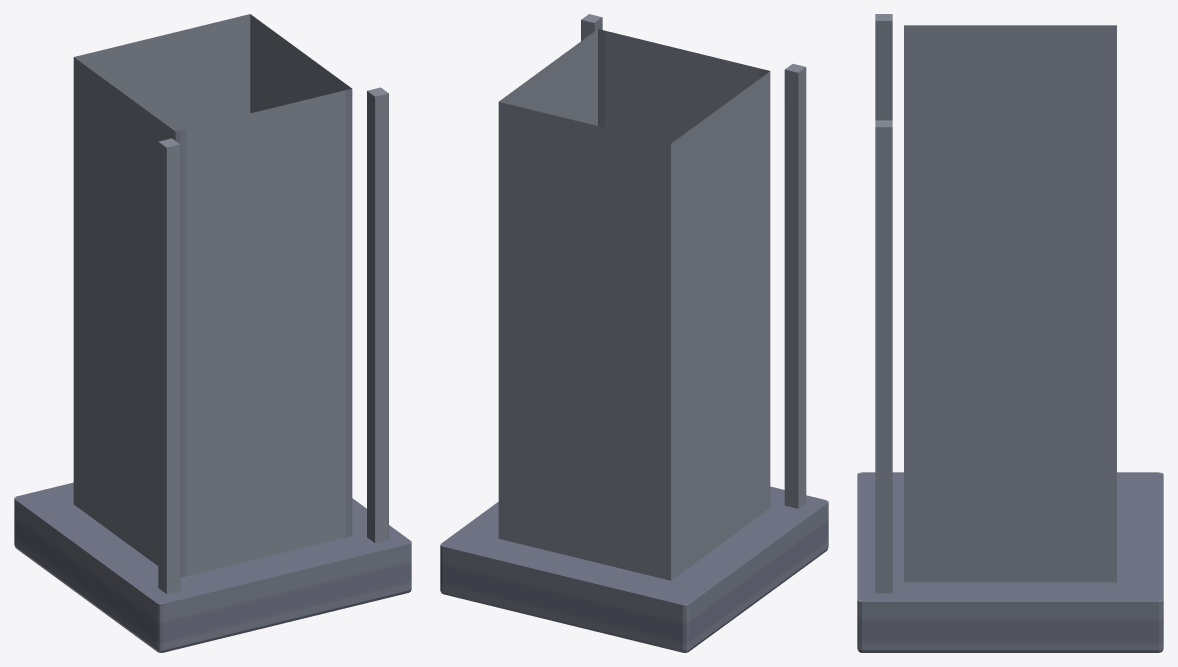
The model's file is Coifapoggerstxt.fbx.
3 views of the same model, side by side, from view 1: azimuth 30°, elevation 25°; view 2: azimuth 150°, elevation 25°; view 3: azimuth 270°, elevation 25° (orthographic). The views are drawn at different scales.
Parts seen in each view (by area): view 1: Cube, Cube.001; view 2: Cube, Cube.001; view 3: Cube, Cube.001.
Boxes of the visible parts, box(x1,y1,x2,y2) form: Cube: box(14, 14, 411, 652); Cube.001: box(158, 87, 388, 593); Cube: box(440, 29, 828, 652); Cube.001: box(581, 14, 806, 508); Cube: box(857, 25, 1163, 652); Cube.001: box(875, 14, 892, 593).
Size of the model in its own units: 397 by 743 by 397.
Materials: 2 (2 with a texture image).
